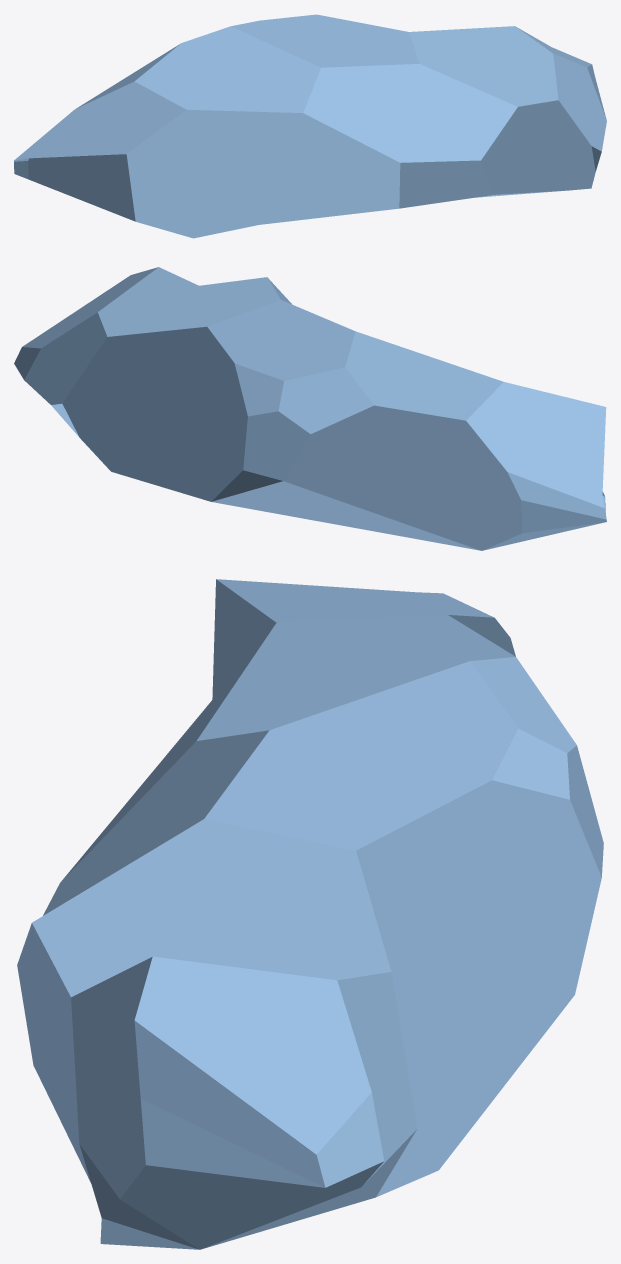
The model's file is Ice.fbx.
3 views of the same model, one above another, from view 1: azimuth 30°, elevation 25°; view 2: azimuth 150°, elevation 25°; view 3: azimuth 270°, elevation 25° (orthographic). The views are drawn at different scales.
Parts seen in each view (by area): view 1: Cube; view 2: Cube; view 3: Cube.
Part boxes in pixels (x1,y1,x2,y2): Cube: (14,14,606,238); Cube: (14,267,606,550); Cube: (17,579,603,1249).
Bounding box in the file's own units: 73.27 × 20.32 × 33.72.
